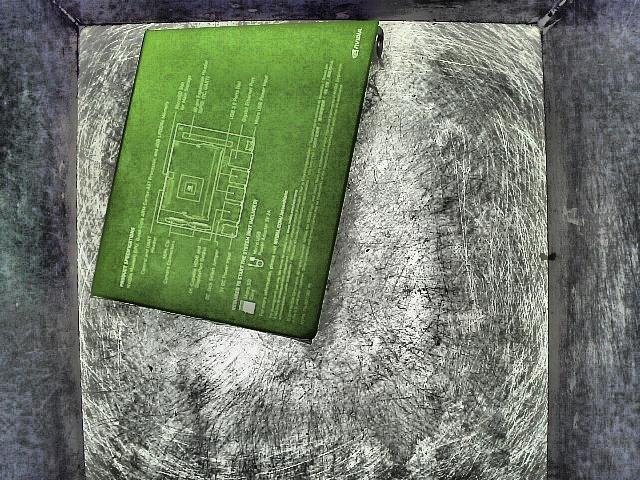Paper: (84, 0, 383, 366)
